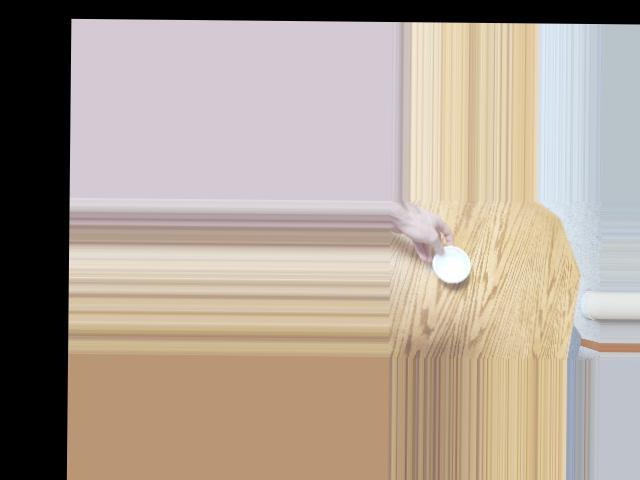cotage: (430, 245, 471, 285)
